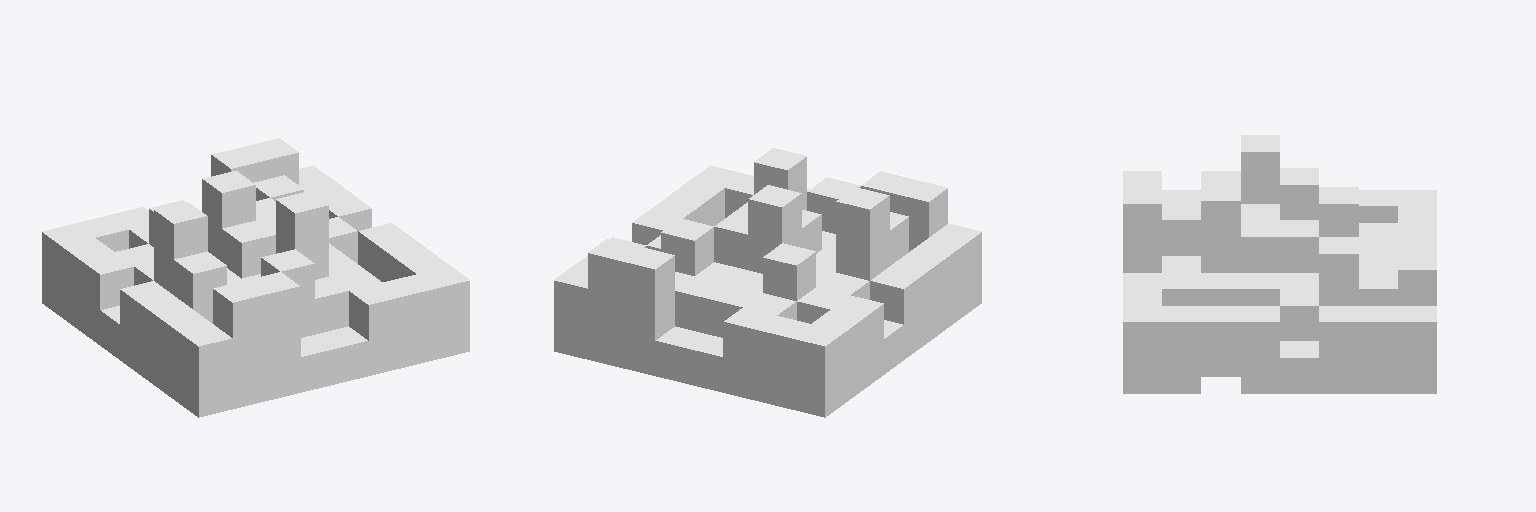
File: GreenCorall6.obj
The picture shows the model from 3 angles: view 1: azimuth 30°, elevation 25°; view 2: azimuth 150°, elevation 25°; view 3: azimuth 270°, elevation 25°; orthographic projection.
Parts seen in each view (by area): view 1: object 1; view 2: object 1; view 3: object 1.
Part boxes in pixels (left/top/right/bottom): object 1: left=42, top=138, right=469, bottom=417; object 1: left=554, top=148, right=981, bottom=417; object 1: left=1123, top=135, right=1436, bottom=393.
Size of the model in its own units: 0.8 by 0.4 by 0.8.